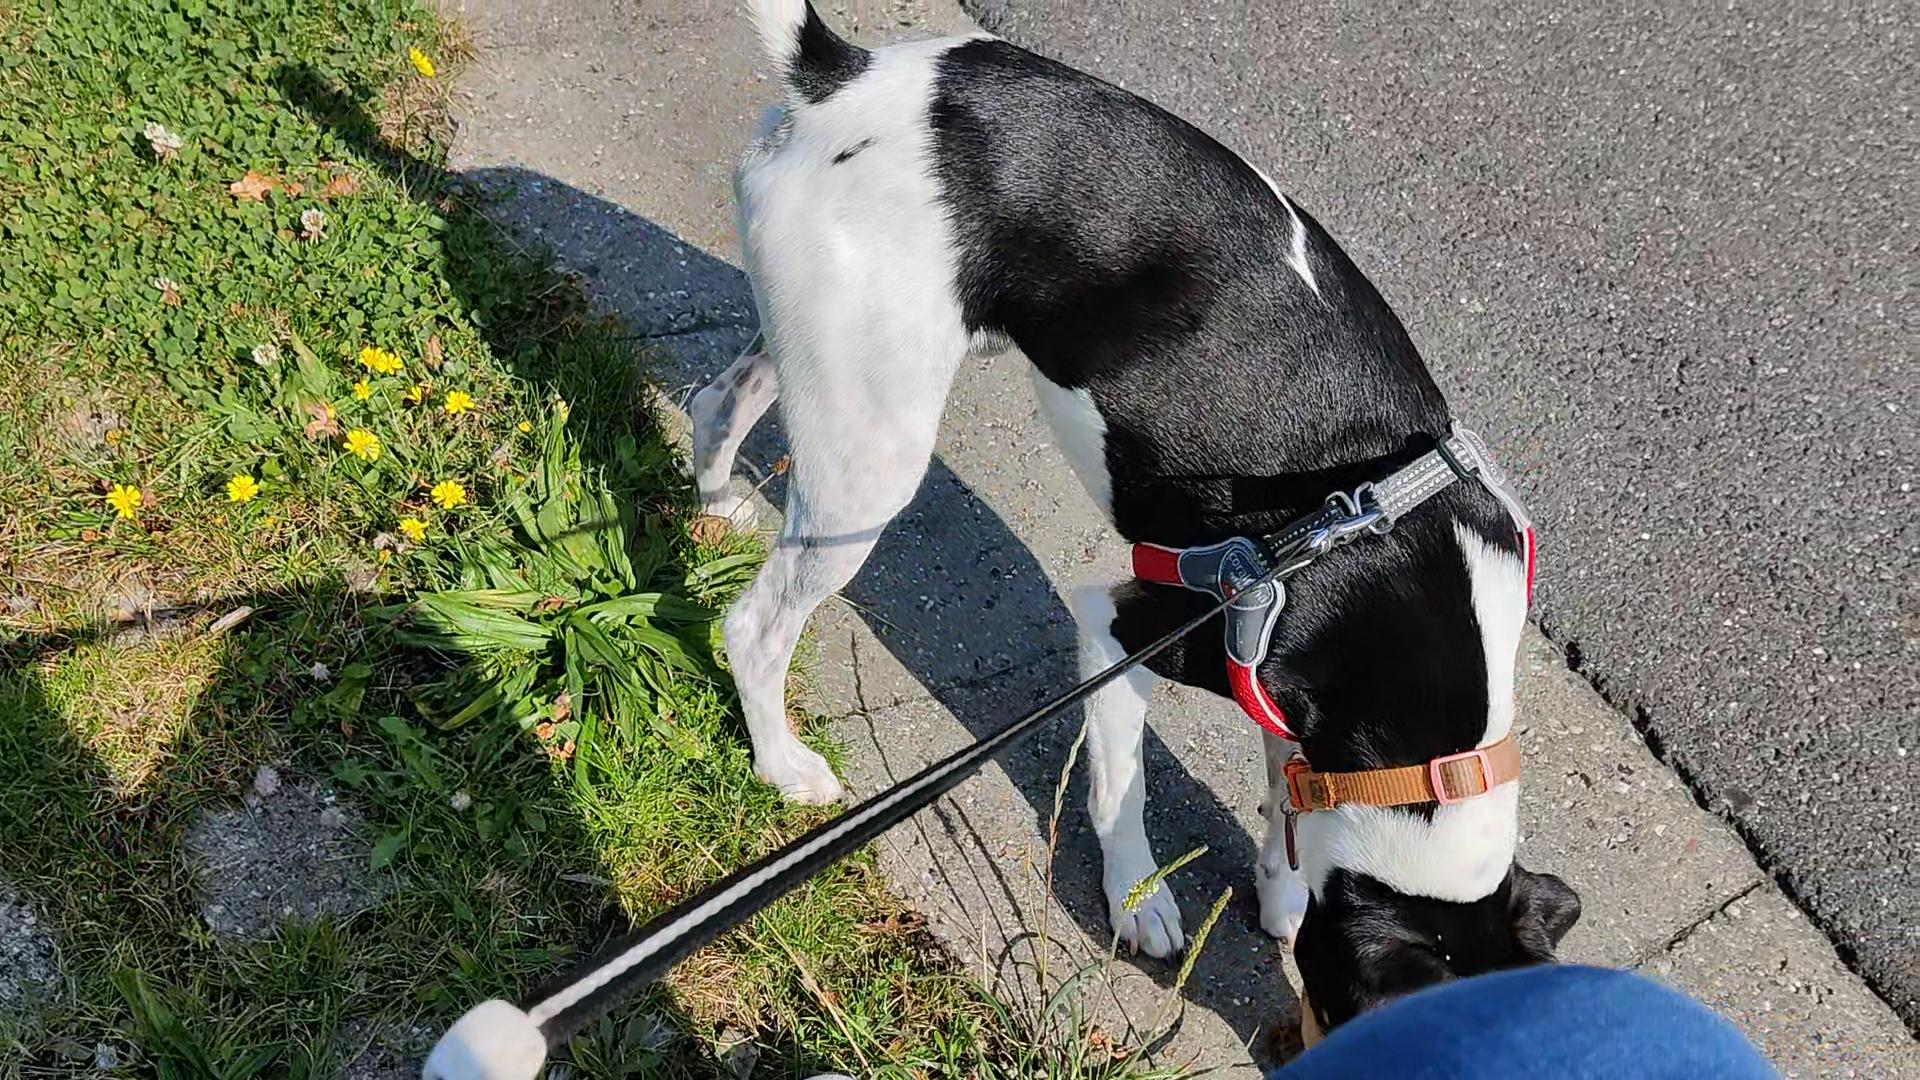Dog: (678, 0, 1610, 1056)
